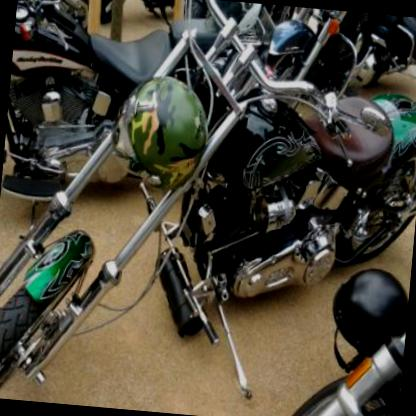motorcycle: (0, 0, 277, 251), (265, 305, 407, 415), (264, 5, 415, 105), (91, 0, 204, 34), (14, 0, 101, 42)
